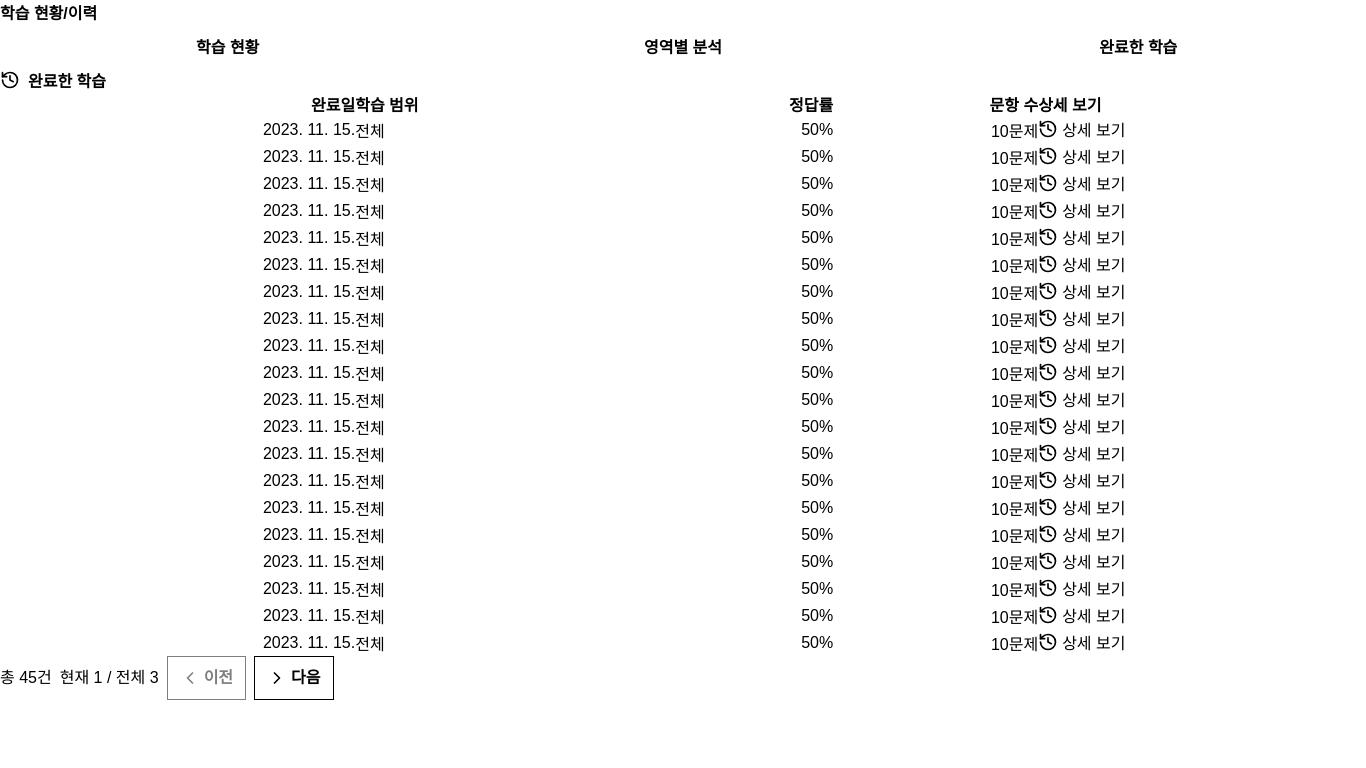
it: 상세 열림 및 페이지 전환/오류 격리 (AC 3, AC 5) › 페이지 변경 시 열려 있던 상세가 자동으로 닫힌다
The image size is (1366, 768).
Click the 1st button "상세 보기".
click(1082, 129)  # box [1038, 116, 1125, 142]
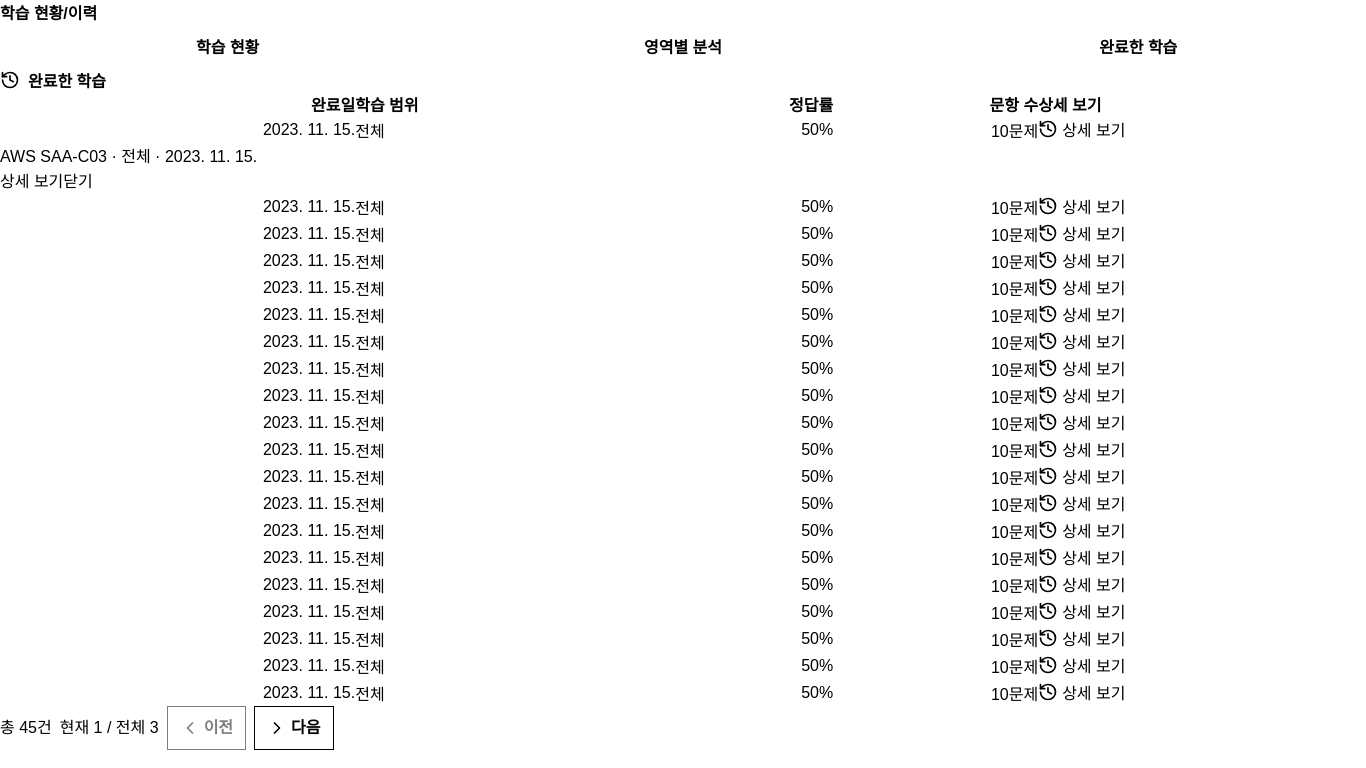
Check: the dialog is shown, box [0, 148, 257, 193]
Click the button "다음".
click(294, 728)  # box [254, 706, 334, 750]
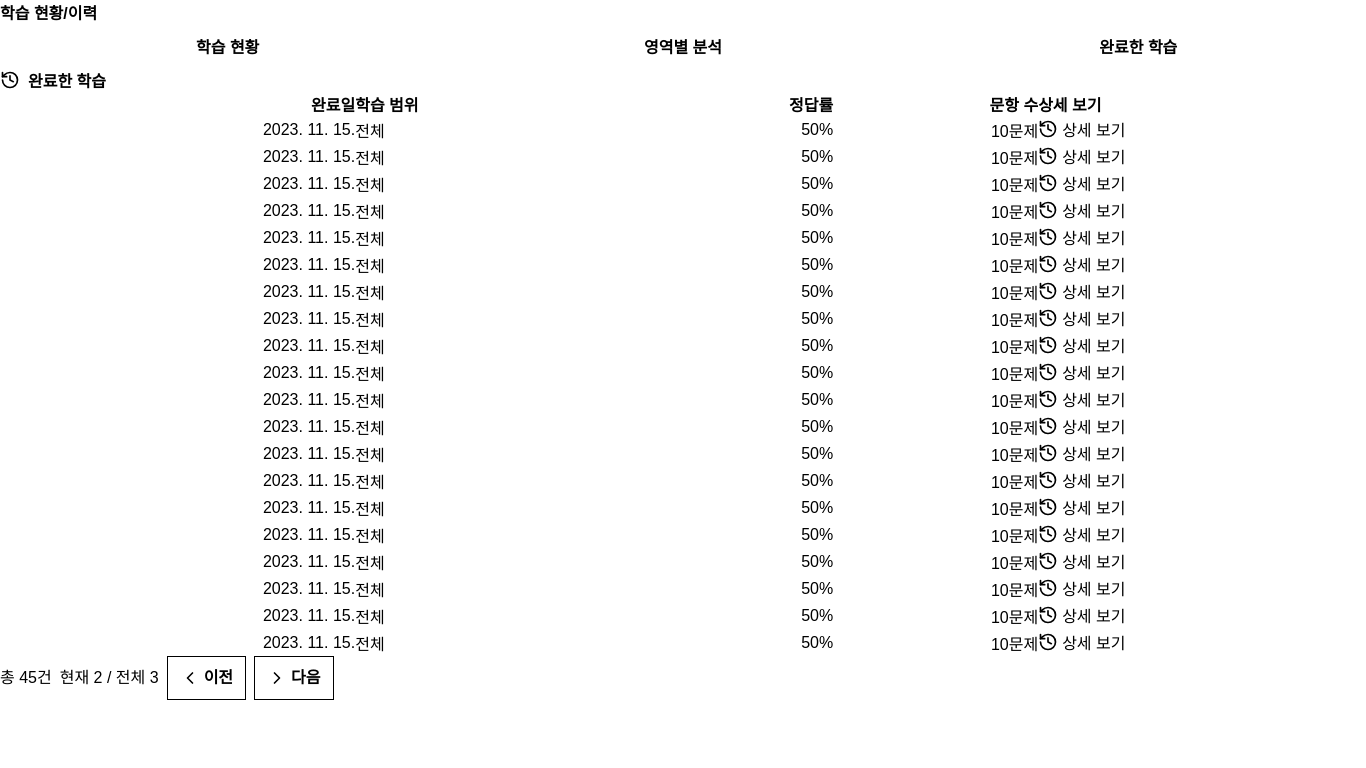
Check: the dialog is gone
